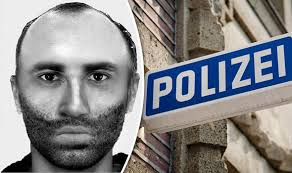middle_eastern_male: (10, 5, 136, 160)
